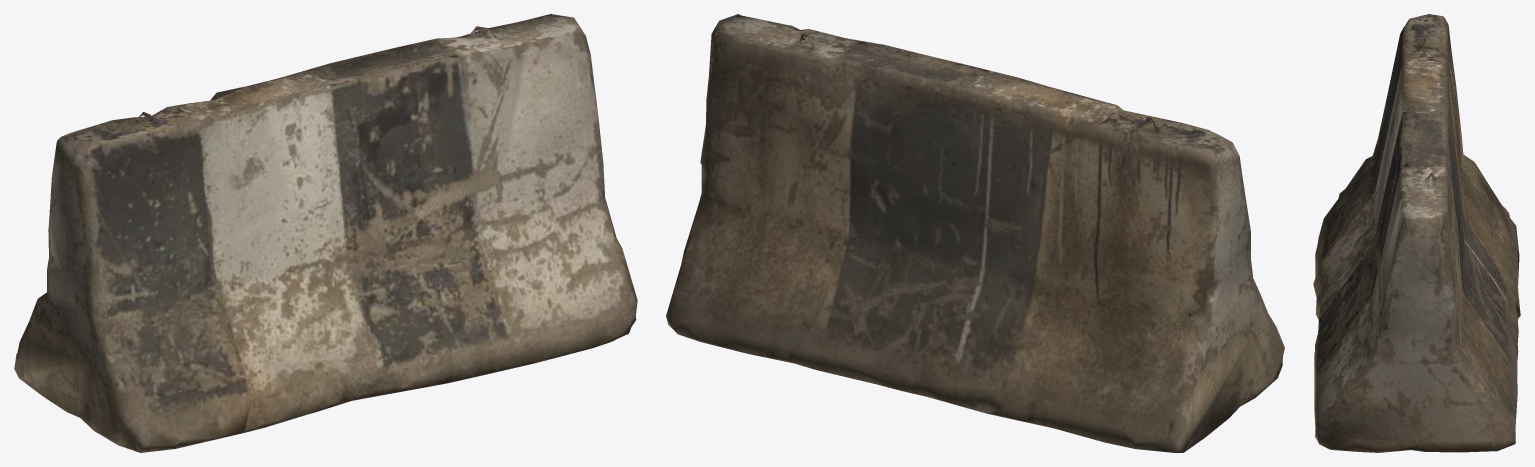
Rendered from barrier.glb.
3 views of the same model, side by side, from view 1: azimuth 30°, elevation 25°; view 2: azimuth 150°, elevation 25°; view 3: azimuth 270°, elevation 25° (orthographic). The views are drawn at different scales.
Visible parts, largest first — view 1: concrete_road_barrier; view 2: concrete_road_barrier; view 3: concrete_road_barrier.
Part boxes in pixels (left/top/right/bottom): concrete_road_barrier: left=14, top=14, right=637, bottom=452; concrete_road_barrier: left=666, top=14, right=1284, bottom=452; concrete_road_barrier: left=1313, top=14, right=1520, bottom=452.
Bounding box in the file's own units: 1.54 × 0.8276 × 0.6372.
Materials: 1 (1 with a texture image).
